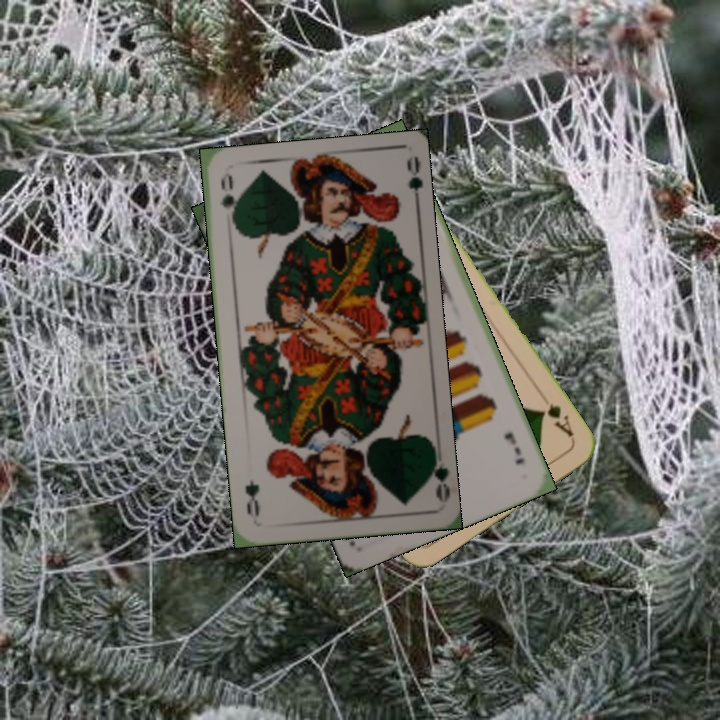E7: (499, 428, 527, 467)
GA: (536, 400, 577, 440)
GO: (422, 445, 451, 503), (216, 172, 239, 230)
